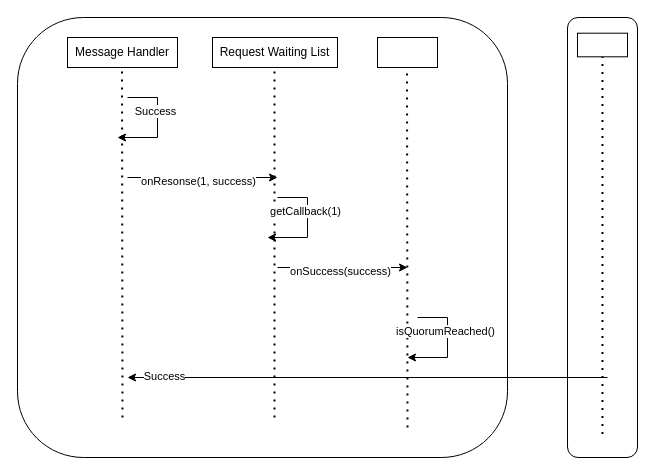
Some shapes in this 655 by 475 pixel diagram are drawn without their labels. The shapes that lost their labels are listed below. From the top down, each one's centre as x and y in pixels, then its label:
At (x=407, y=52): "Callback".
At (x=602, y=44): "node 1".
